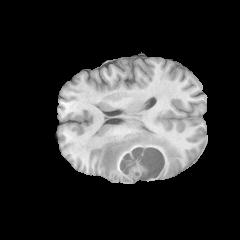glioma: (98, 128, 181, 181)
